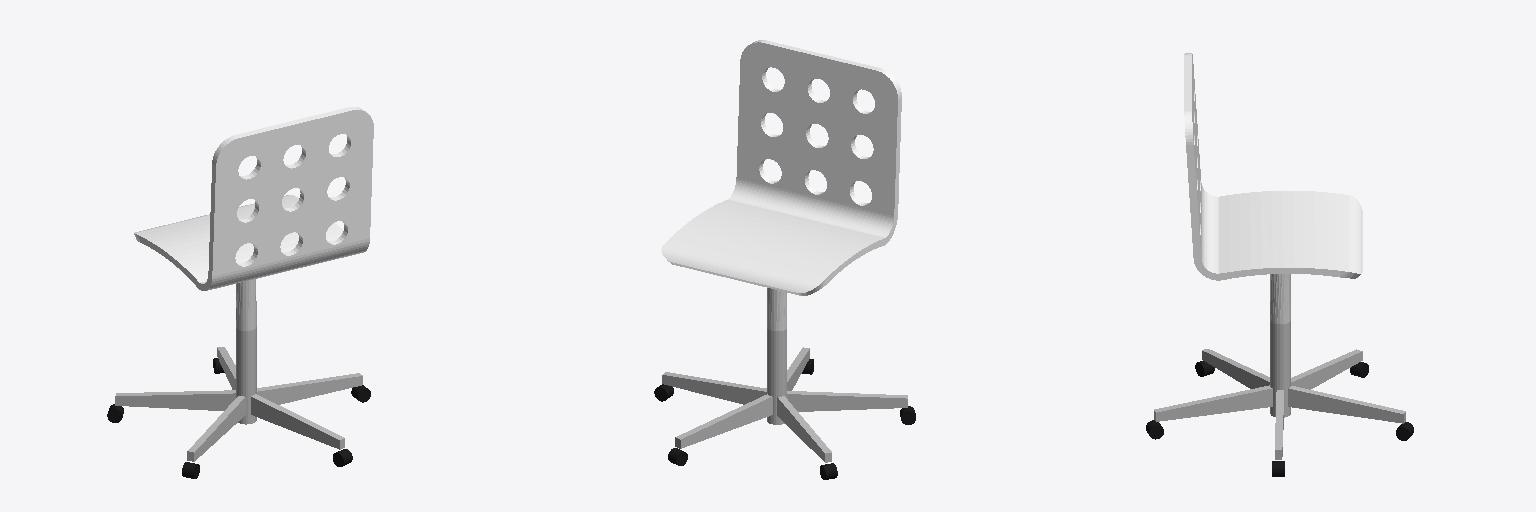
3 views of the same model, side by side, from view 1: azimuth 30°, elevation 25°; view 2: azimuth 150°, elevation 25°; view 3: azimuth 270°, elevation 25° (orthographic).
Parts seen in each view (by area): view 1: Mesh1 Group2 Group1 Model, Mesh12 Group3 ske3F1 Group1 Model, Mesh7 Group6 Group3 ske3F1 Group1 Model, Mesh5 Group5 Group3 ske3F1 Group1 Model, Mesh11 Group8 Group3 ske3F1 Group1 Model, Mesh9 Group7 Group3 ske3F1 Group1 Model; view 2: Mesh1 Group2 Group1 Model, Mesh12 Group3 ske3F1 Group1 Model, Mesh9 Group7 Group3 ske3F1 Group1 Model, Mesh3 Group4 Group3 ske3F1 Group1 Model, Mesh11 Group8 Group3 ske3F1 Group1 Model, Mesh7 Group6 Group3 ske3F1 Group1 Model; view 3: Mesh1 Group2 Group1 Model, Mesh12 Group3 ske3F1 Group1 Model, Mesh5 Group5 Group3 ske3F1 Group1 Model, Mesh3 Group4 Group3 ske3F1 Group1 Model, Mesh7 Group6 Group3 ske3F1 Group1 Model, Mesh9 Group7 Group3 ske3F1 Group1 Model, Mesh11 Group8 Group3 ske3F1 Group1 Model.
Boxes of the visible parts, <box> form: Mesh1 Group2 Group1 Model: <box>134,107,373,290</box>; Mesh12 Group3 ske3F1 Group1 Model: <box>236,279,256,424</box>; Mesh7 Group6 Group3 ske3F1 Group1 Model: <box>115,390,235,410</box>; Mesh5 Group5 Group3 ske3F1 Group1 Model: <box>251,394,344,449</box>; Mesh11 Group8 Group3 ske3F1 Group1 Model: <box>257,373,362,404</box>; Mesh9 Group7 Group3 ske3F1 Group1 Model: <box>187,396,245,461</box>; Mesh1 Group2 Group1 Model: <box>661,40,901,295</box>; Mesh12 Group3 ske3F1 Group1 Model: <box>767,288,786,424</box>; Mesh9 Group7 Group3 ske3F1 Group1 Model: <box>787,391,907,411</box>; Mesh3 Group4 Group3 ske3F1 Group1 Model: <box>675,394,772,448</box>; Mesh11 Group8 Group3 ske3F1 Group1 Model: <box>662,372,766,404</box>; Mesh7 Group6 Group3 ske3F1 Group1 Model: <box>777,396,831,462</box>; Mesh1 Group2 Group1 Model: <box>1184,53,1362,280</box>; Mesh12 Group3 ske3F1 Group1 Model: <box>1270,274,1290,417</box>; Mesh5 Group5 Group3 ske3F1 Group1 Model: <box>1154,385,1272,421</box>; Mesh3 Group4 Group3 ske3F1 Group1 Model: <box>1288,386,1405,423</box>; Mesh7 Group6 Group3 ske3F1 Group1 Model: <box>1291,349,1362,389</box>; Mesh9 Group7 Group3 ske3F1 Group1 Model: <box>1202,349,1269,388</box>; Mesh11 Group8 Group3 ske3F1 Group1 Model: <box>1275,390,1283,459</box>.
Bounding box in the file's own units: 0.5269 × 0.7652 × 0.5512.